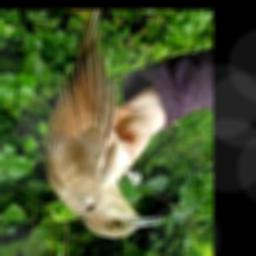Cuckoo: (44, 11, 164, 238)
